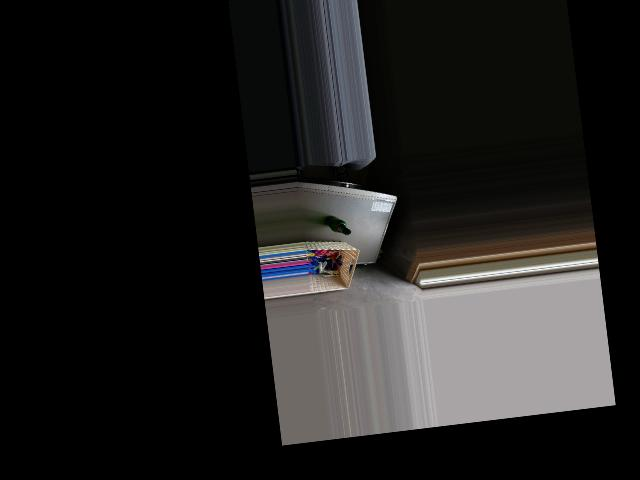beer: (324, 213, 351, 236)
